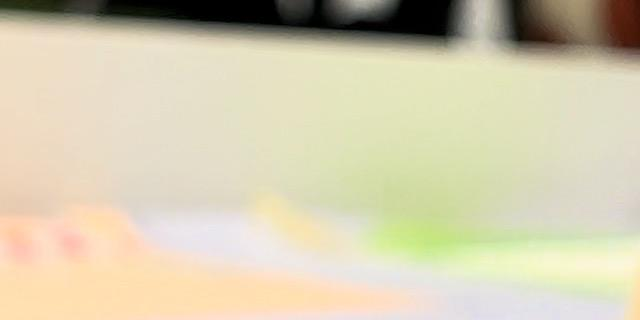burger: (510, 0, 640, 320)
